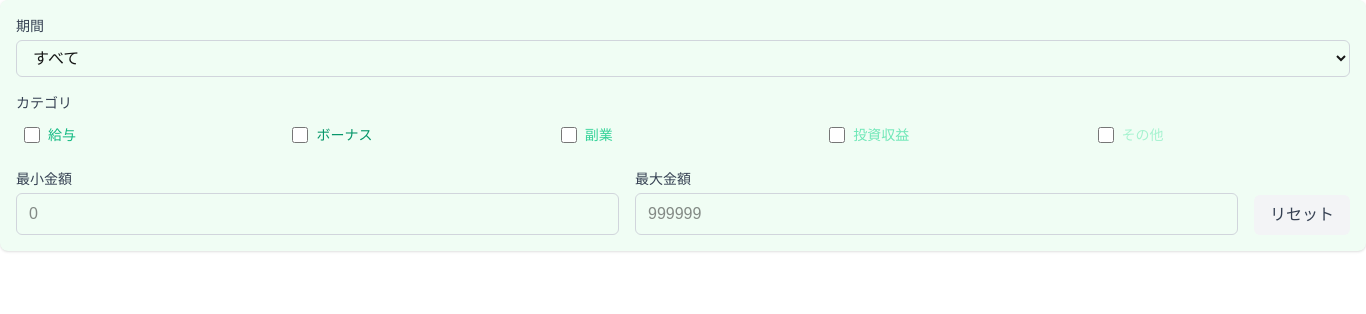
IncomeFilters › 期間フィルターが正しく動作すること
Select "今月" in the dropdown labelled "期間" at (683, 58), box [16,40,1350,77]
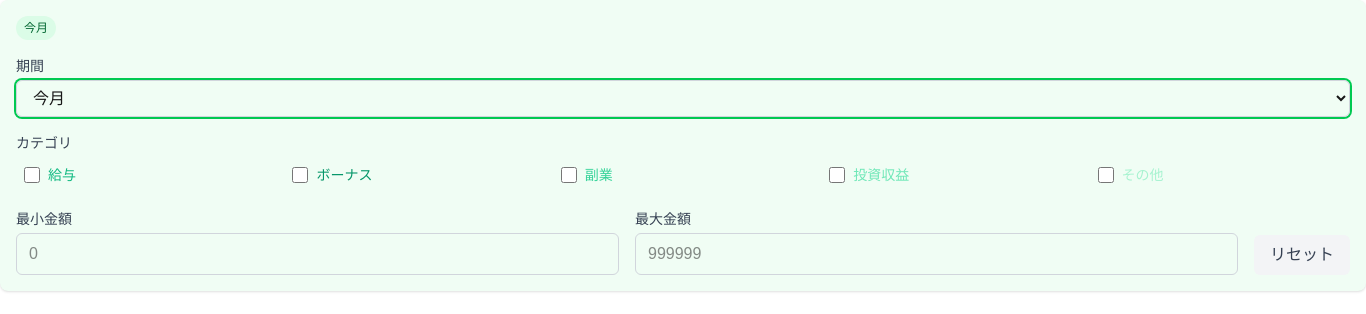
// カスタム期間を選択
Select "カスタム期間" in the dropdown labelled "期間" at (683, 98), box [16,80,1350,117]
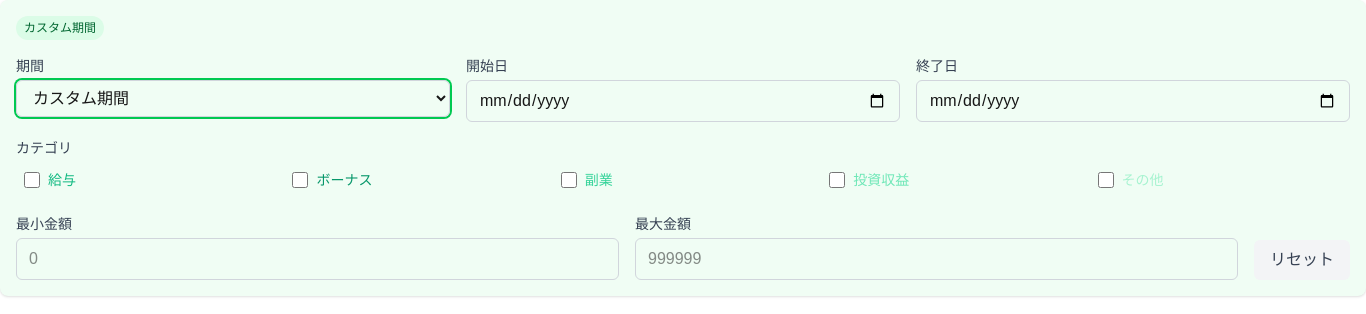
Expected: the date field labelled "開始日" is shown, [466,80,900,122]
Expected: the date field labelled "終了日" is shown, [916,80,1350,122]
